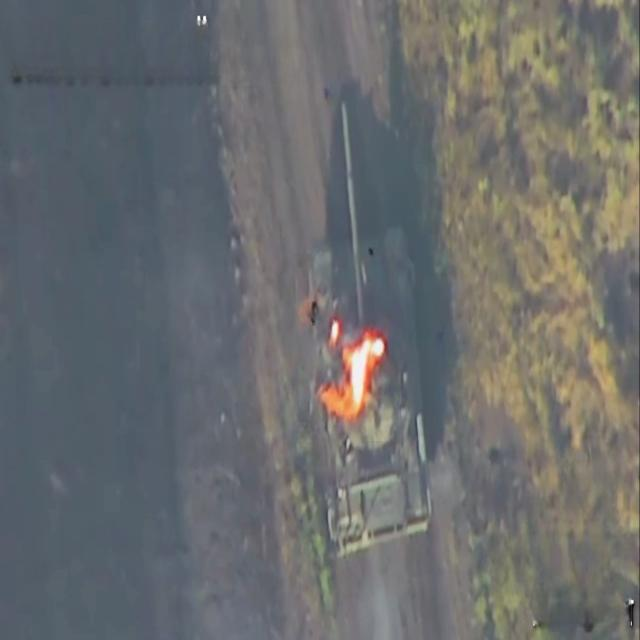MBT: (307, 103, 434, 565)
